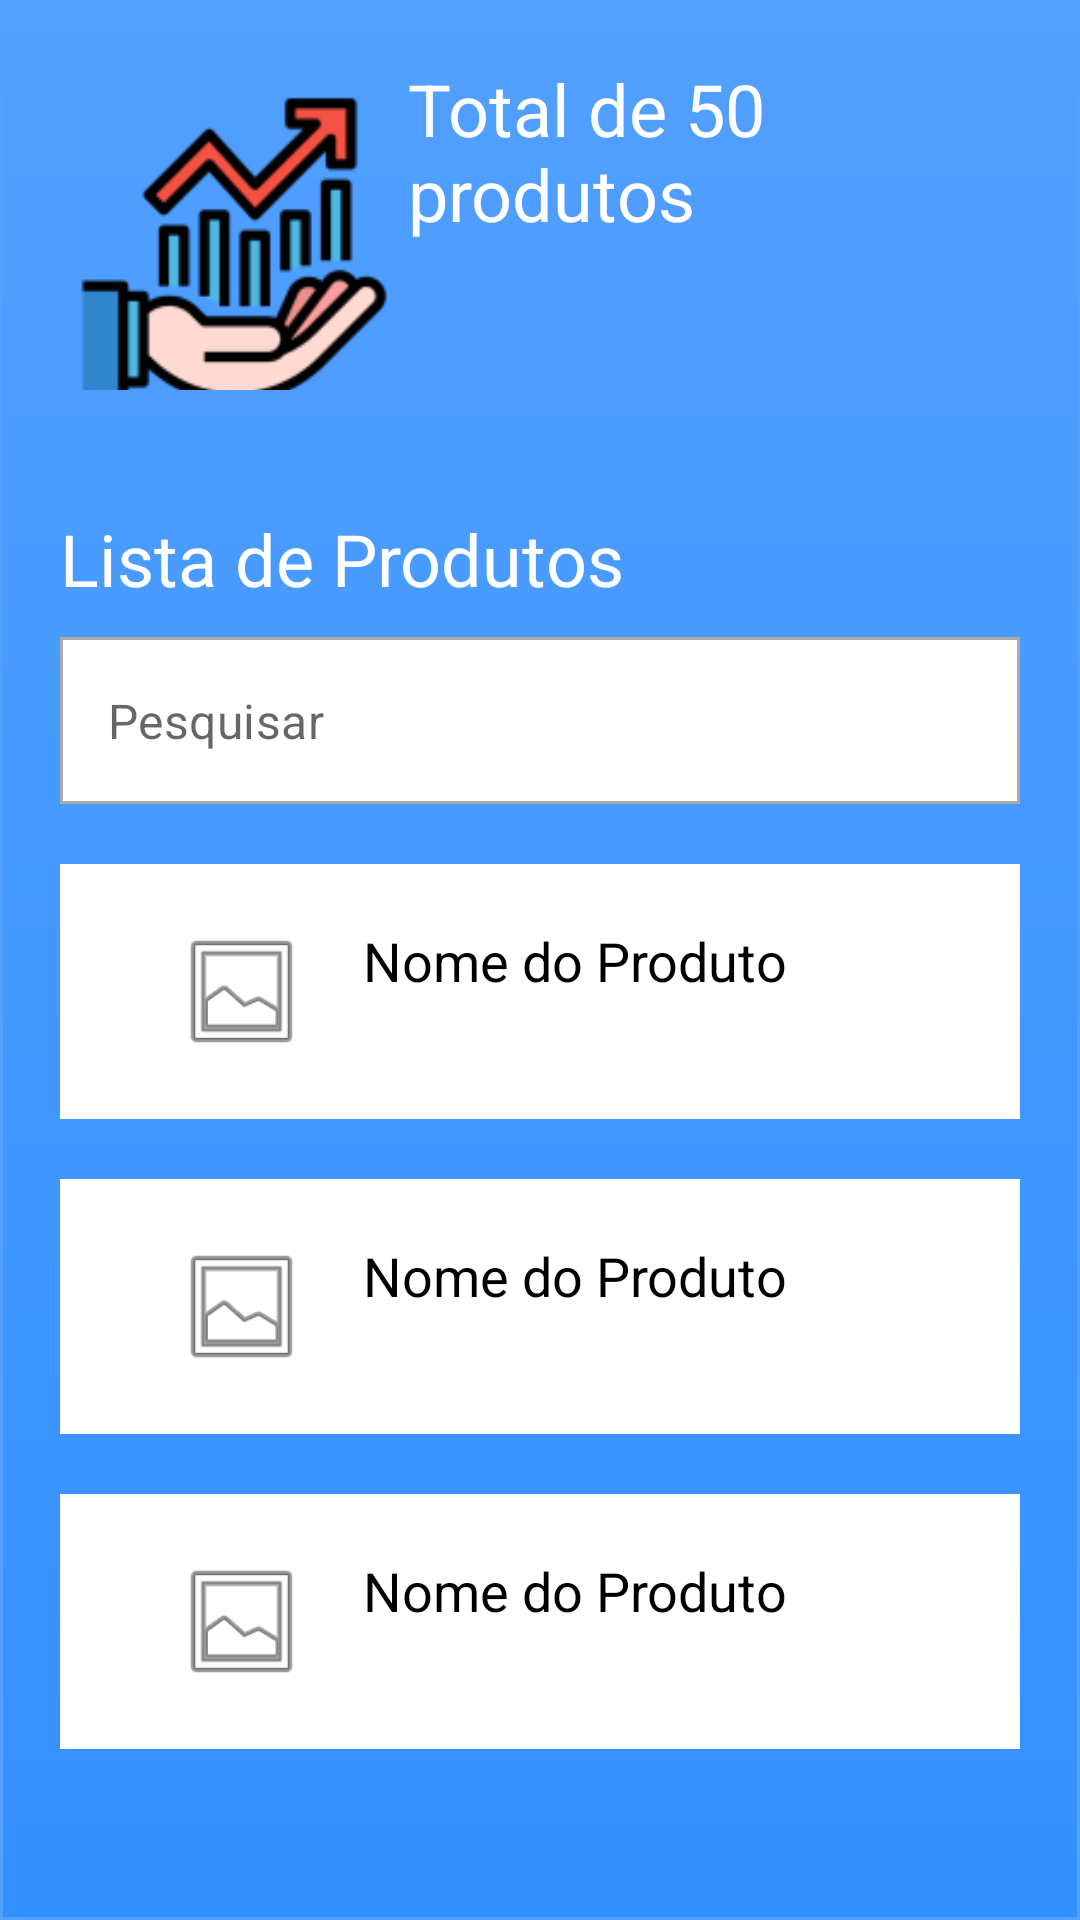

Point at icon controls on the screen. Image size 1080x1920, points as point (x, y).
gallery: point (241, 991), point (241, 1306), point (241, 1621)
